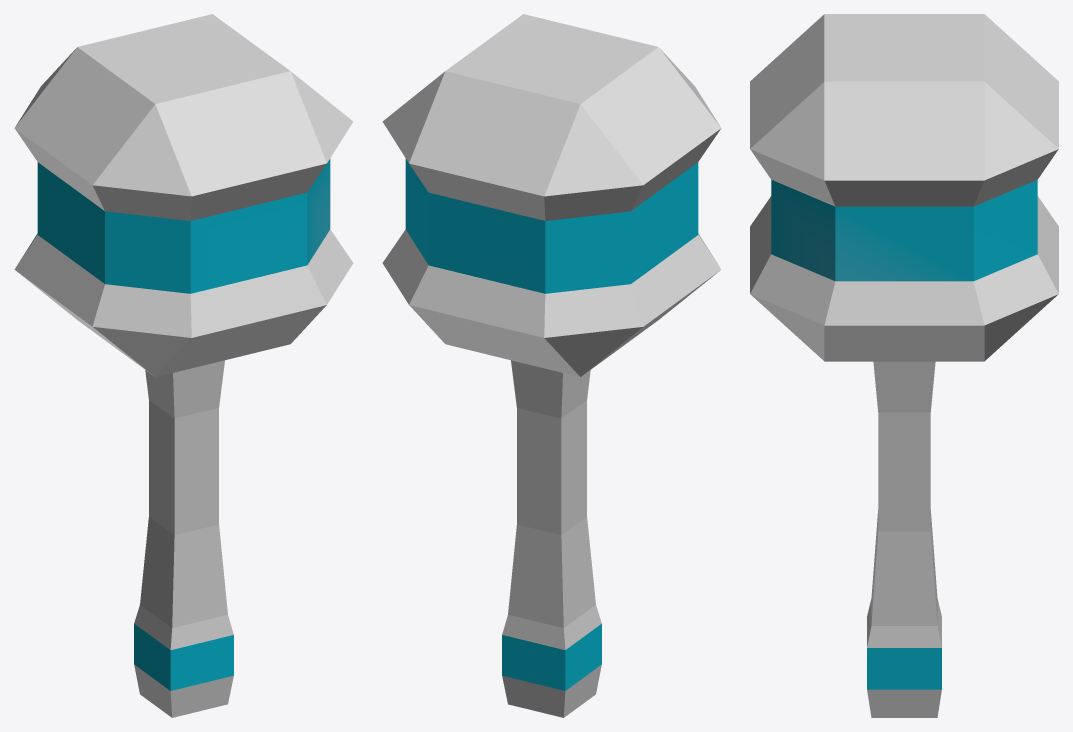
The model's file is SkyLamp.fbx.
3 renders of one model, left to right at view 1: azimuth 30°, elevation 25°; view 2: azimuth 150°, elevation 25°; view 3: azimuth 270°, elevation 25°, orthographic. The views are drawn at different scales.
Parts seen in each view (by area): view 1: Cube; view 2: Cube; view 3: Cube.
Part boxes in pixels (box(x1,y1,x2,y2)): Cube: box(14, 14, 353, 717); Cube: box(382, 14, 721, 717); Cube: box(750, 14, 1058, 717).
Size of the model in its own units: 2 by 4.69 by 2.
